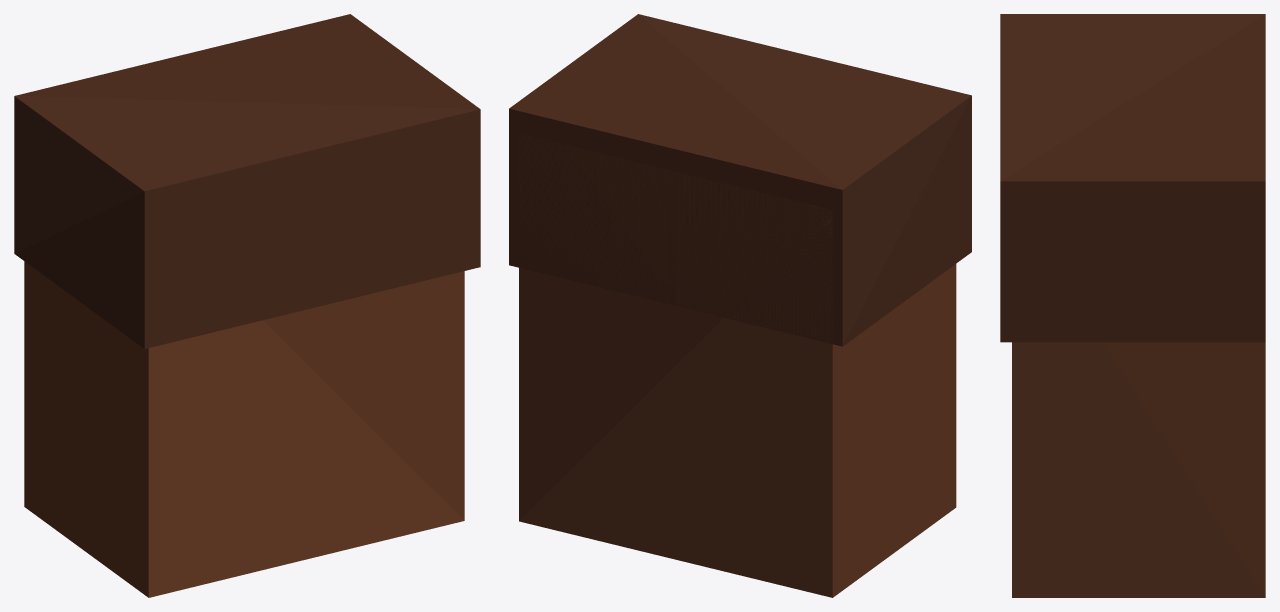
Rendered from cartuchera.fbx.
The picture shows the model from 3 angles, left to right: view 1: azimuth 30°, elevation 25°; view 2: azimuth 150°, elevation 25°; view 3: azimuth 270°, elevation 25°; orthographic projection. The views are drawn at different scales.
Parts seen in each view (by area): view 1: cartuchera; view 2: cartuchera; view 3: cartuchera.
Boxes of the visible parts, left/top/right/bottom form: cartuchera: left=14, top=14, right=480, bottom=597; cartuchera: left=509, top=14, right=971, bottom=597; cartuchera: left=1000, top=14, right=1265, bottom=597.
Size of the model in its own units: 0.0711 by 0.0836 by 0.0477.
1 material, 1 textured.
